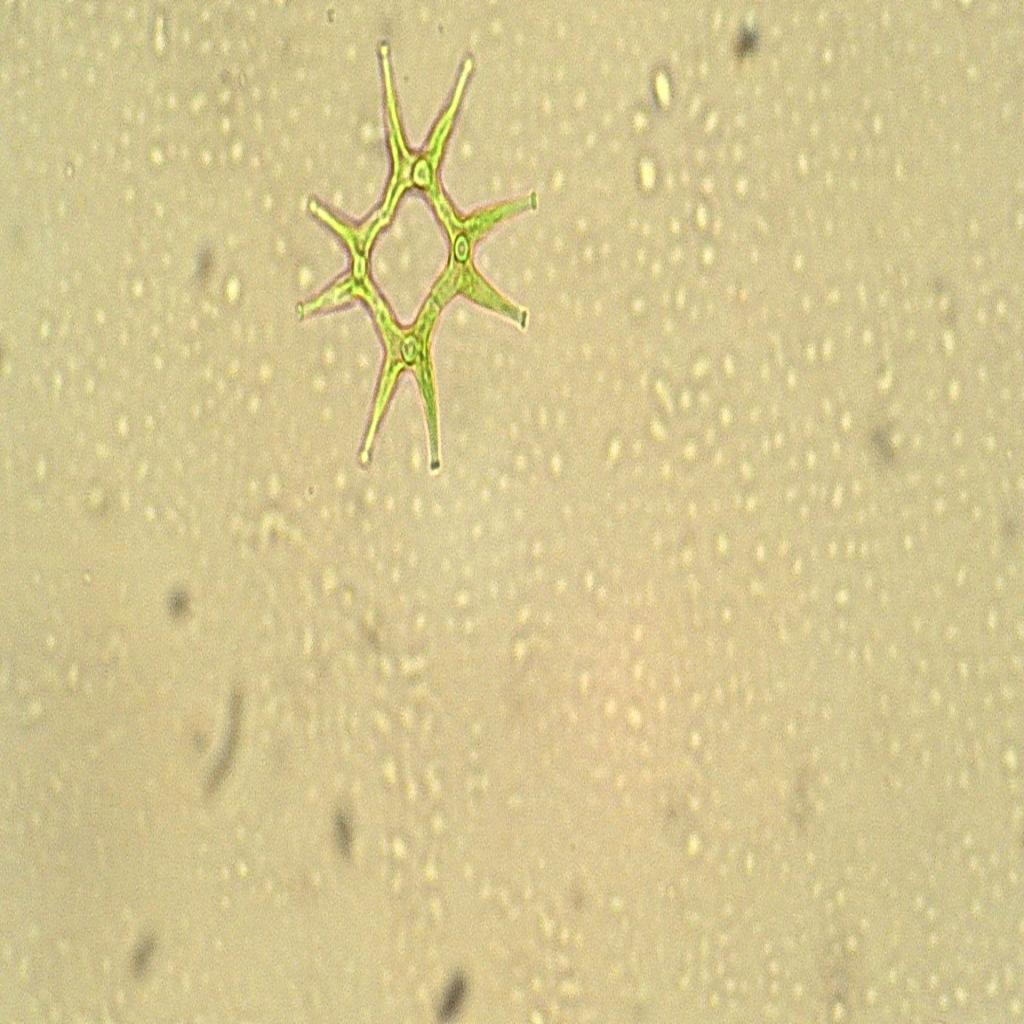Pediastrum_CO: (286, 33, 549, 501)
